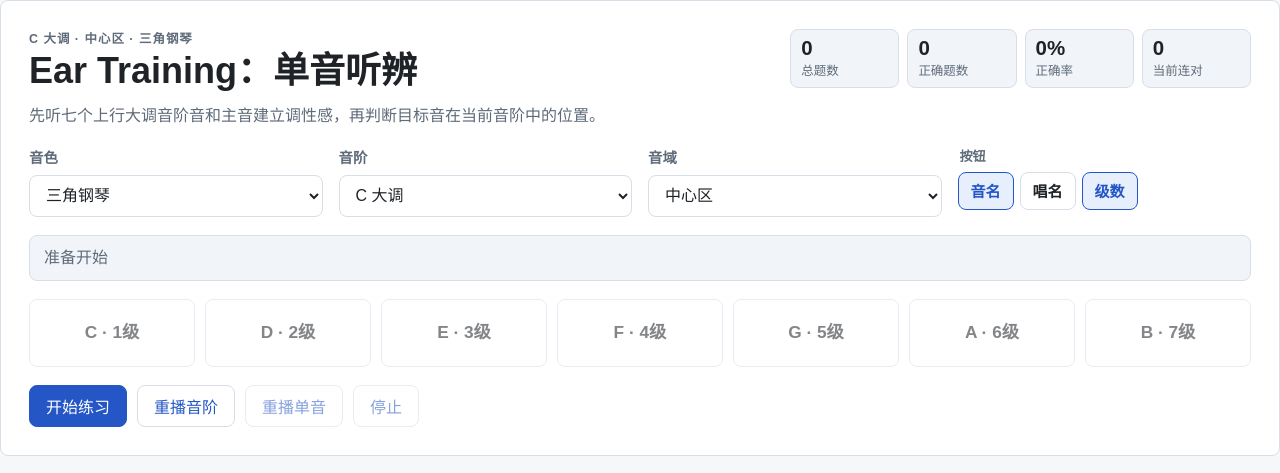
EarTrainingPage › 答错后显示正确答案，停止练习时清空统计
Click the button "开始练习": (78, 406) [29, 385, 127, 427]
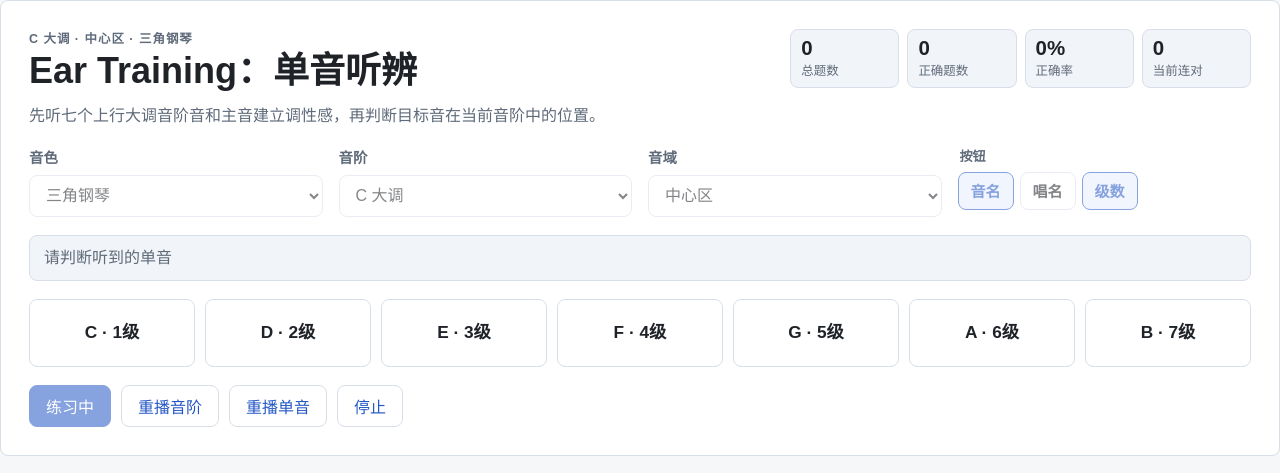
Result: the text "请判断听到的单音" is shown at [29, 235, 1251, 281]
Click the button "D · 2级": (288, 333) [205, 299, 371, 367]
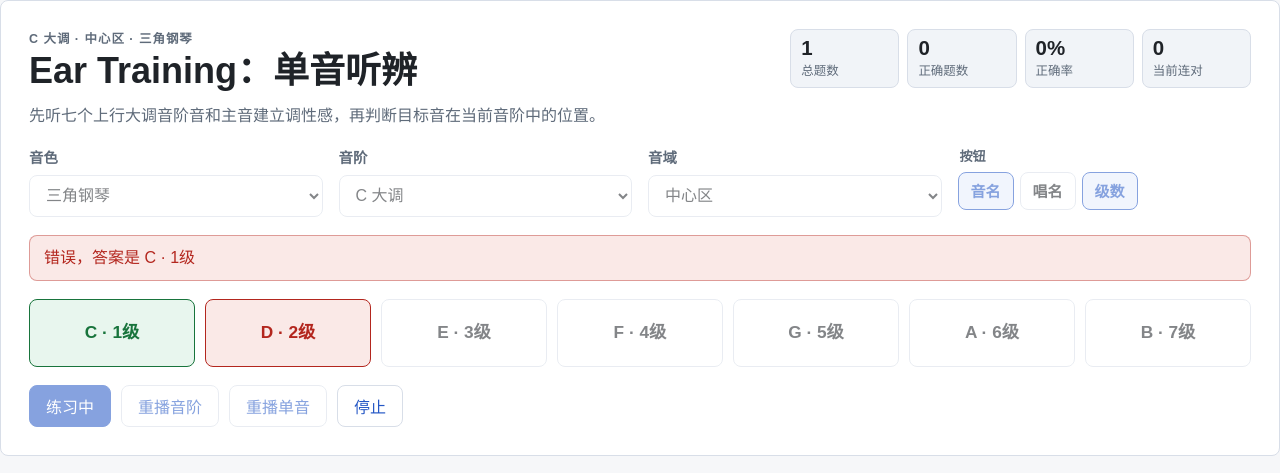
Expected: the 1st text "0" is shown, [918, 36, 930, 59]
Result: the message reads "错误，答案是 C · 1级" at [44, 249, 195, 266]
Result: the text "1" is shown at [801, 36, 813, 59]
Click the button "停止": (370, 406) [337, 385, 403, 427]
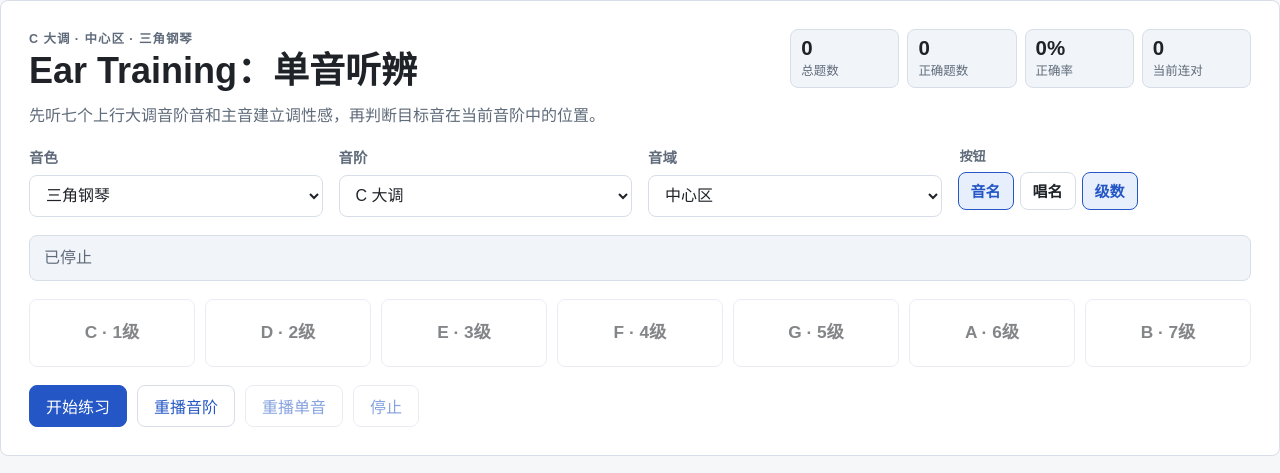
Expected: the 2nd text "0" is shown, [918, 36, 930, 59]
Result: the message reads "已停止" at [44, 249, 92, 266]
